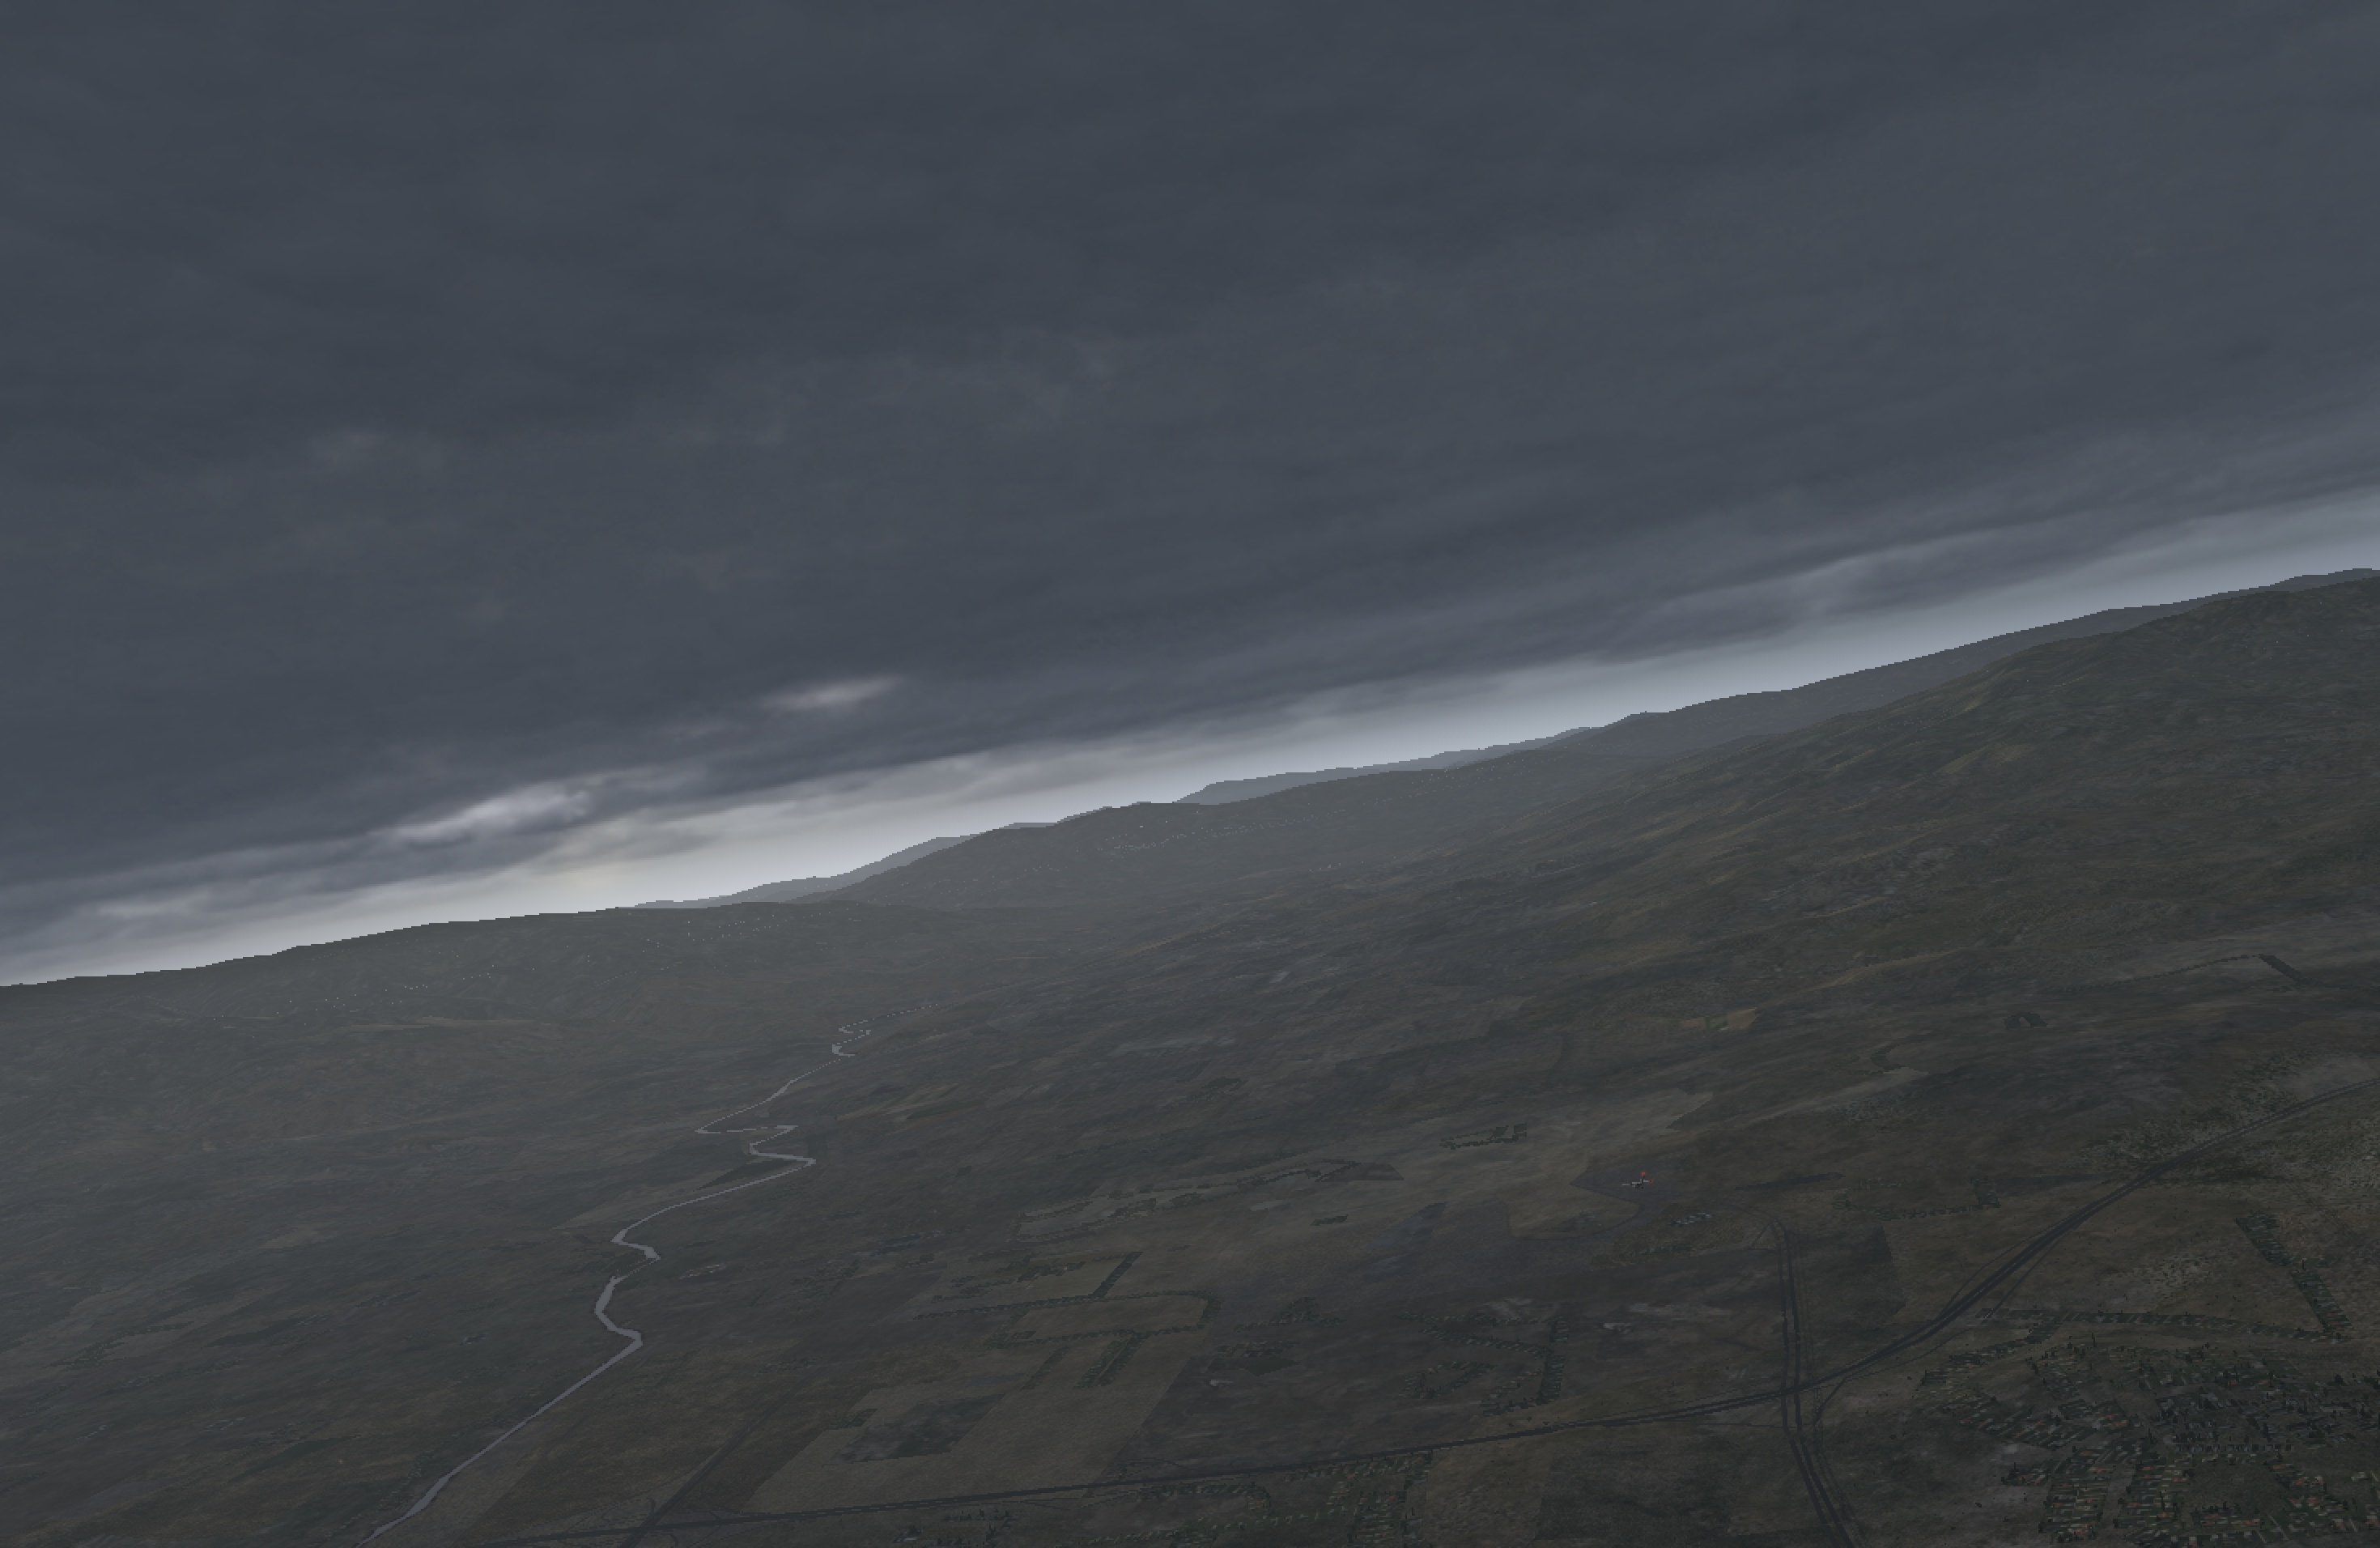aircraft: (1625, 1180, 1650, 1189)
